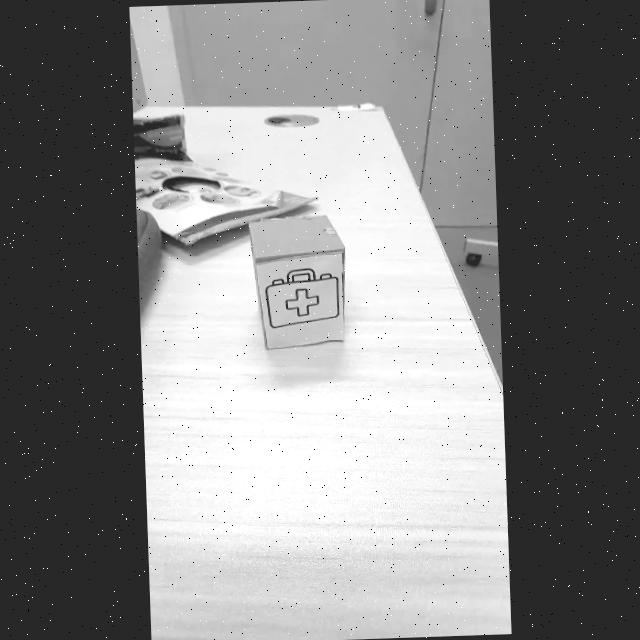Medkit: (262, 266, 339, 330)
